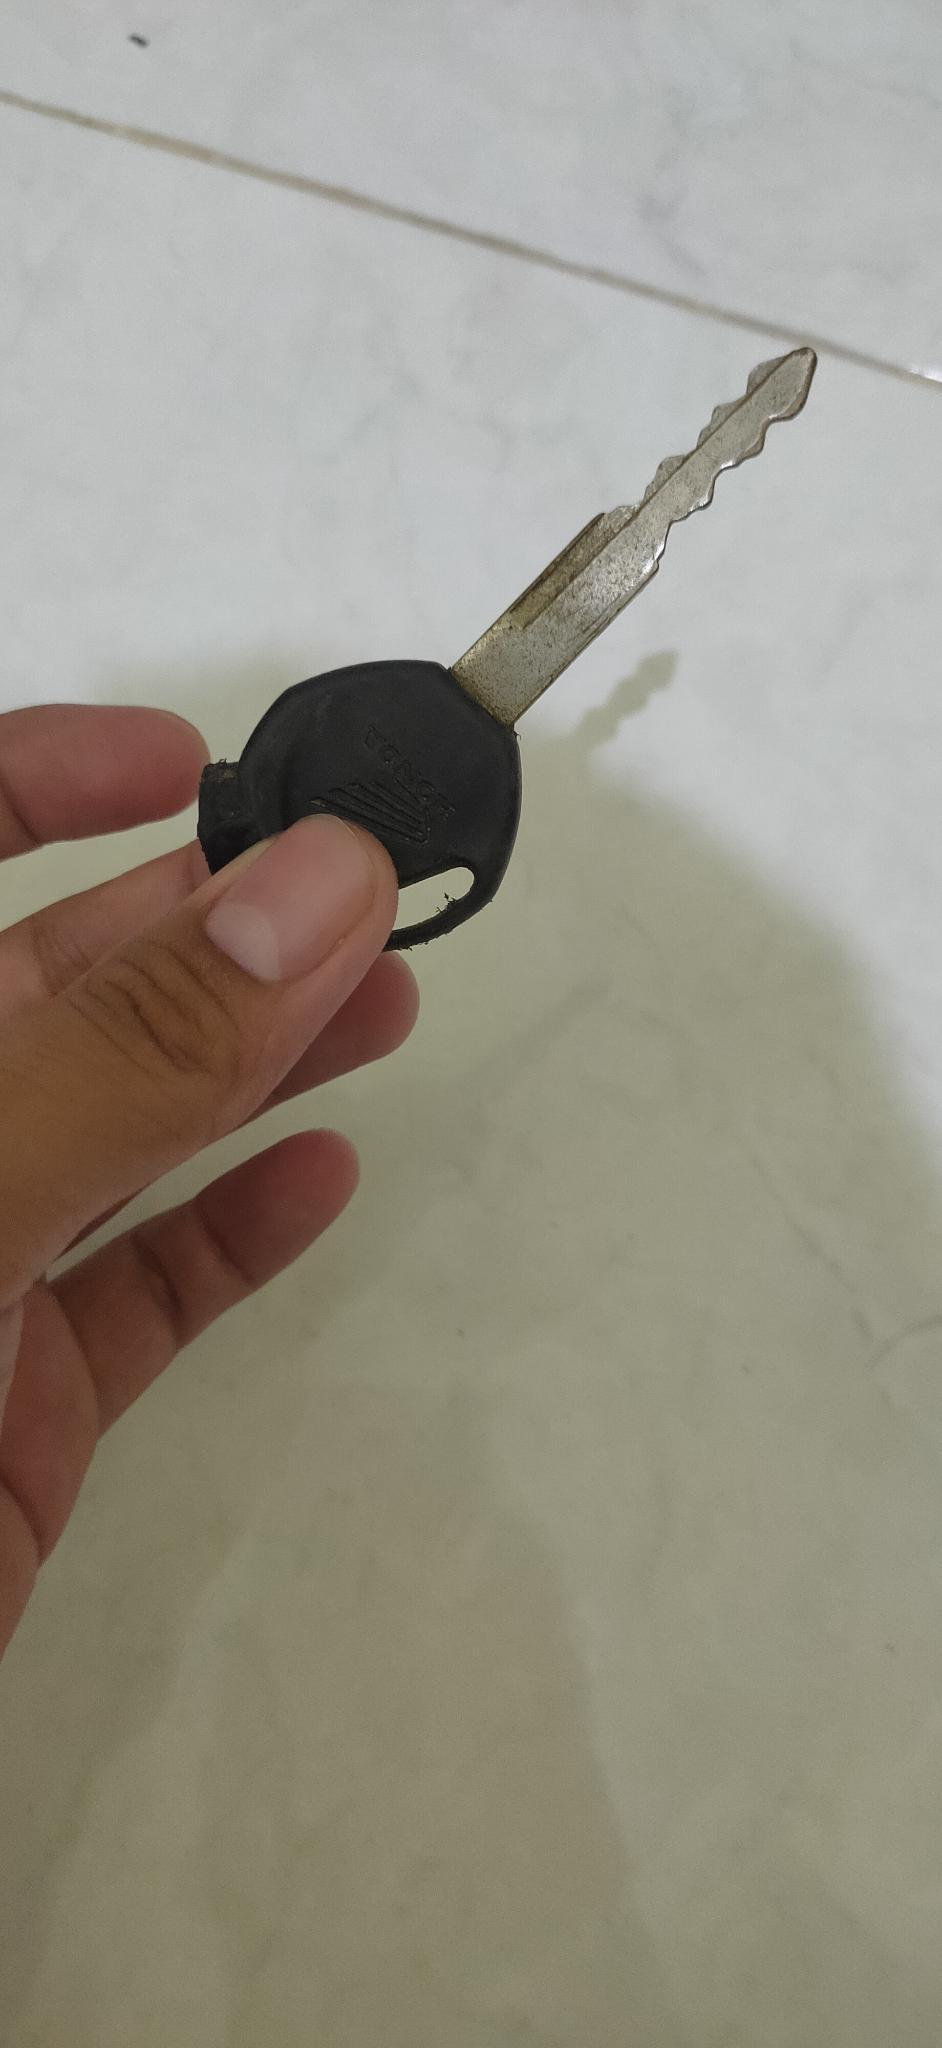keys: (176, 303, 830, 978)
